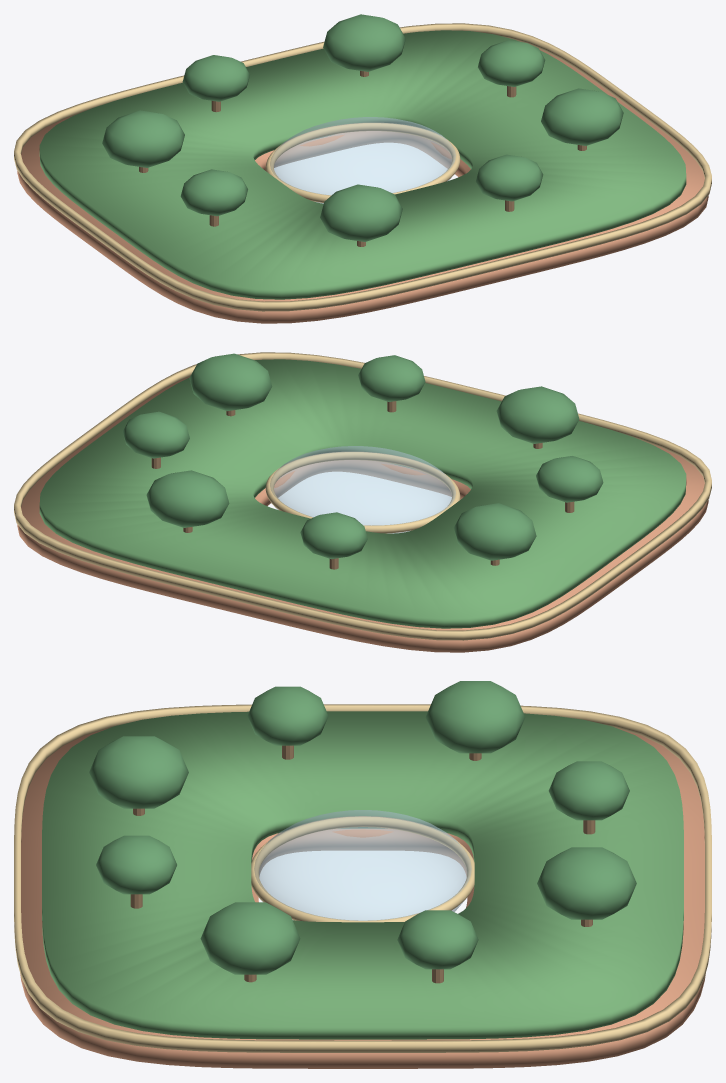
Rendered from mod_05_sky_roof_garden.glb.
3 renders of one model, top to bottom at view 1: azimuth 30°, elevation 25°; view 2: azimuth 150°, elevation 25°; view 3: azimuth 270°, elevation 25°, orthographic. The views are drawn at different scales.
Visible parts, largest first — view 1: mod_05_sky_roof_garden_QuantizedMesh; view 2: mod_05_sky_roof_garden_QuantizedMesh; view 3: mod_05_sky_roof_garden_QuantizedMesh.
Boxes of the visible parts, x1,y1,x2,y2 form: mod_05_sky_roof_garden_QuantizedMesh: [14, 14, 711, 323]; mod_05_sky_roof_garden_QuantizedMesh: [14, 352, 711, 652]; mod_05_sky_roof_garden_QuantizedMesh: [14, 681, 711, 1068].
Size of the model in its own units: 4.6 by 0.7392 by 4.
